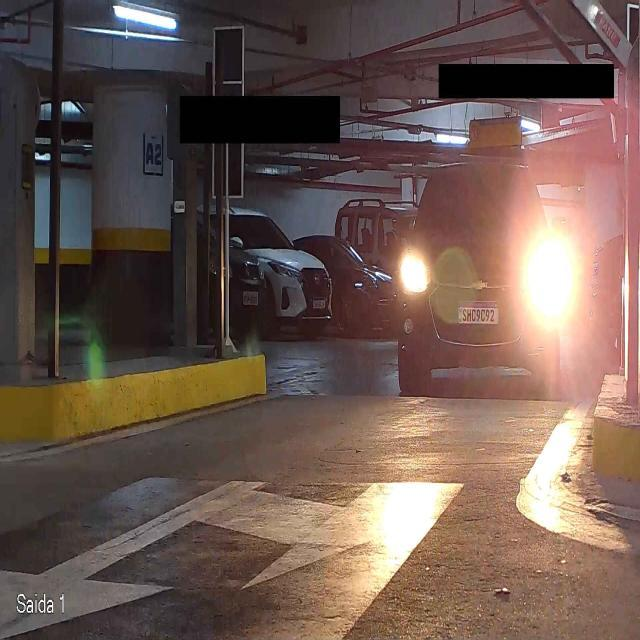mercosul_plate: (454, 299, 501, 325)
